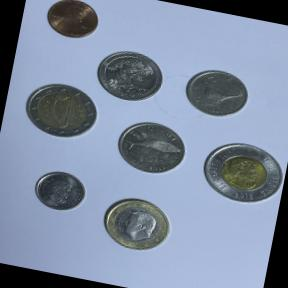coin: (192, 129, 288, 212), (14, 74, 104, 145), (94, 188, 176, 260), (108, 112, 191, 181), (90, 43, 170, 107), (25, 161, 91, 220), (39, 0, 103, 45)
